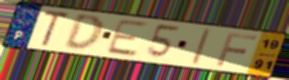5: (144, 22, 183, 61)
D: (62, 14, 104, 53)
E: (103, 18, 150, 58)
F: (214, 31, 260, 68)
I: (189, 27, 213, 66)
T: (38, 9, 72, 48)
